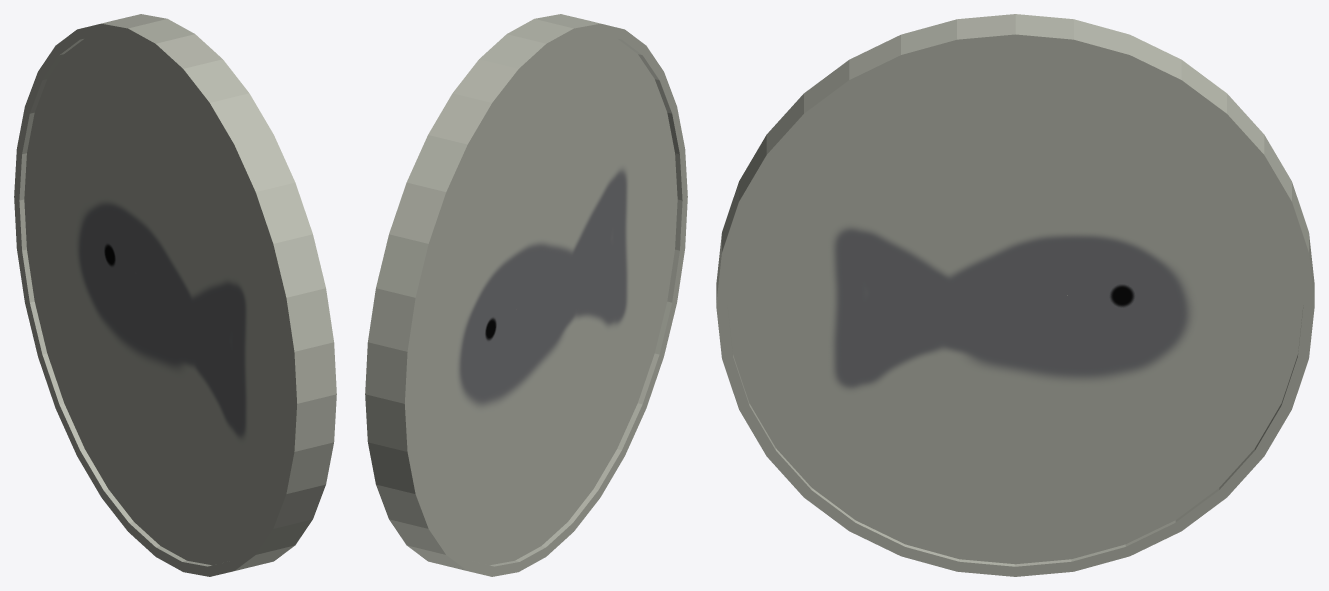
Rendered from coin.fbx.
The picture shows the model from 3 angles, left to right: view 1: azimuth 30°, elevation 25°; view 2: azimuth 150°, elevation 25°; view 3: azimuth 270°, elevation 25°; orthographic projection. The views are drawn at different scales.
Visible parts, largest first — view 1: Cylinder; view 2: Cylinder; view 3: Cylinder.
Part boxes in pixels (x1,y1,x2,y2): Cylinder: (14, 14, 336, 576); Cylinder: (365, 14, 687, 576); Cylinder: (716, 14, 1314, 576).
Bounding box in the file's own units: 16.19 × 200 × 200.
1 material, 1 textured.
